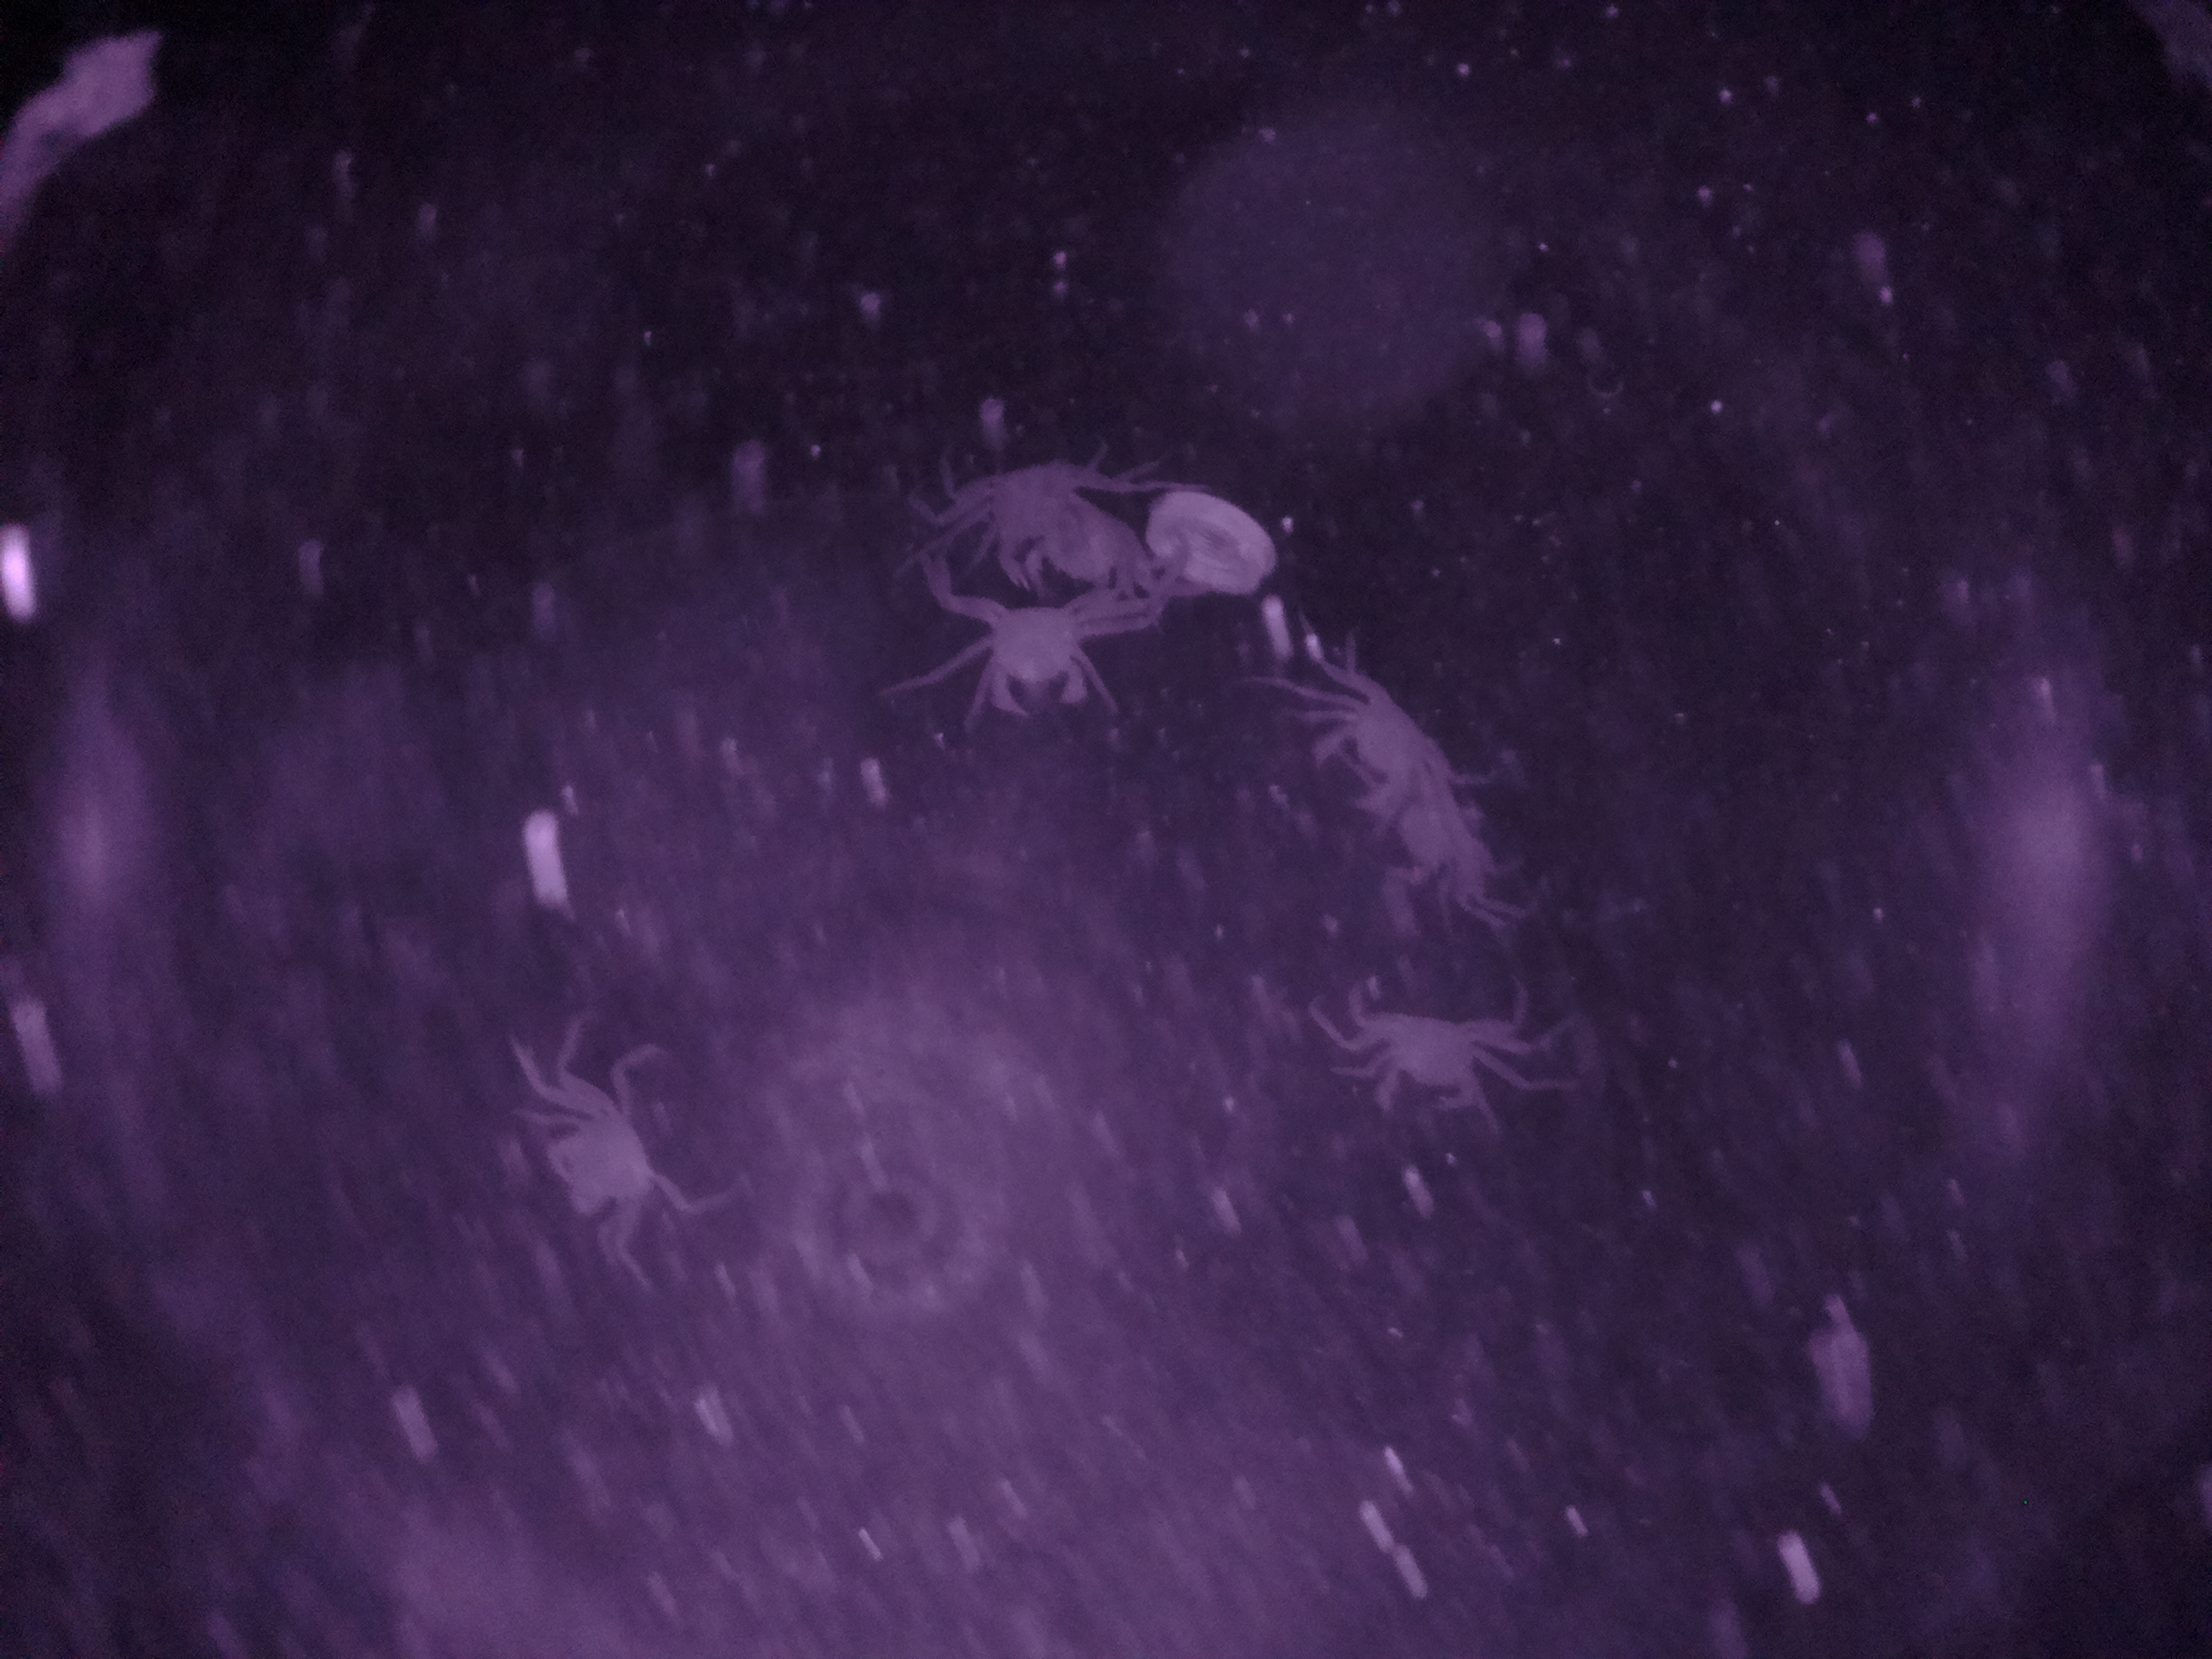Crab: (1306, 986, 1540, 1138), (514, 1047, 683, 1253), (941, 579, 1123, 741)
